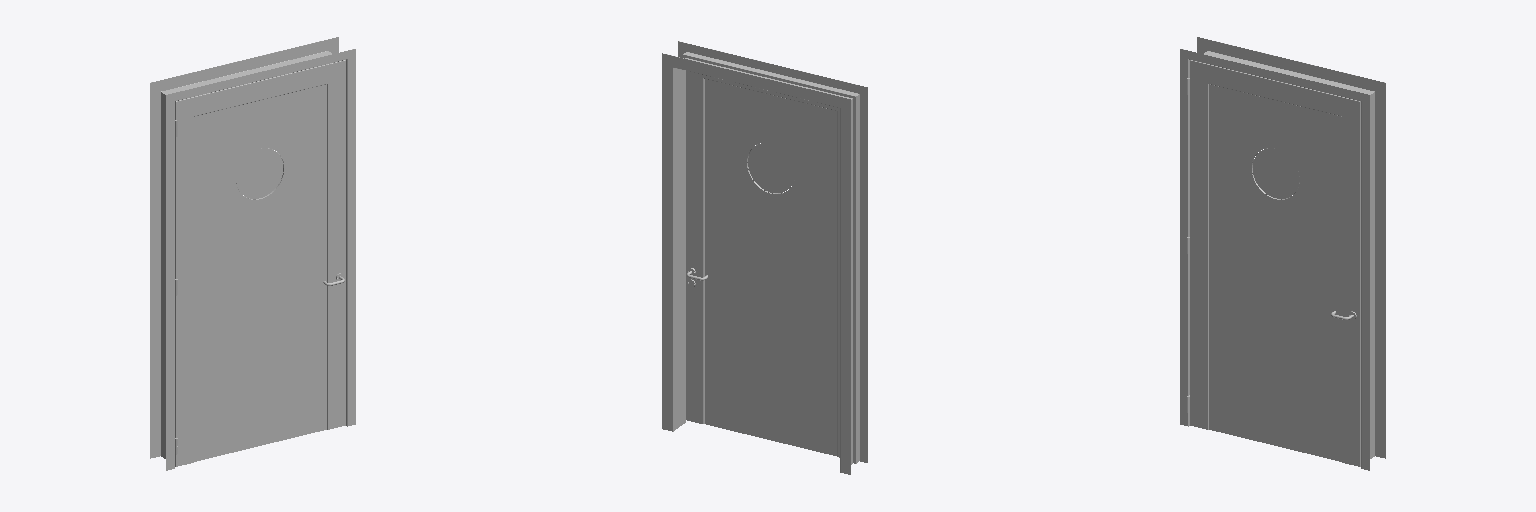
Rendered from SP_130_-_1_leaf.obj.
3 renders of one model, left to right at view 1: azimuth 30°, elevation 25°; view 2: azimuth 150°, elevation 25°; view 3: azimuth 330°, elevation 25°, orthographic.
Visible parts, largest first — view 1: Obj_000002, Obj_000005, Obj_000003; view 2: Obj_000001, Obj_000005, Obj_000003; view 3: Obj_000002, Obj_000005, Obj_000003.
Part boxes in pixels (x1,y1,x2,y2): Obj_000002: (194, 84, 326, 461); Obj_000005: (150, 37, 355, 470); Obj_000003: (236, 148, 282, 198); Obj_000001: (705, 79, 836, 455); Obj_000005: (662, 41, 867, 474); Obj_000003: (748, 143, 794, 192); Obj_000002: (1209, 84, 1341, 461); Obj_000005: (1180, 37, 1385, 470); Obj_000003: (1253, 148, 1299, 198).
Bounding box in the file's own units: 1360 × 2580 × 282.